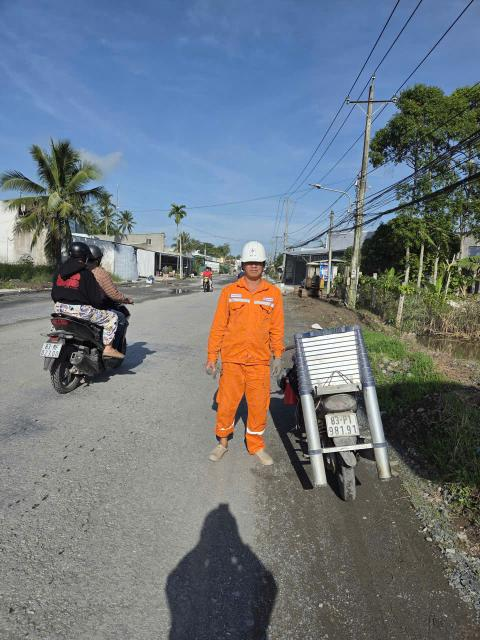gloves: (260, 353, 285, 376)
helmet: (235, 238, 270, 270)
shoes: (205, 437, 230, 461), (248, 444, 277, 464)
